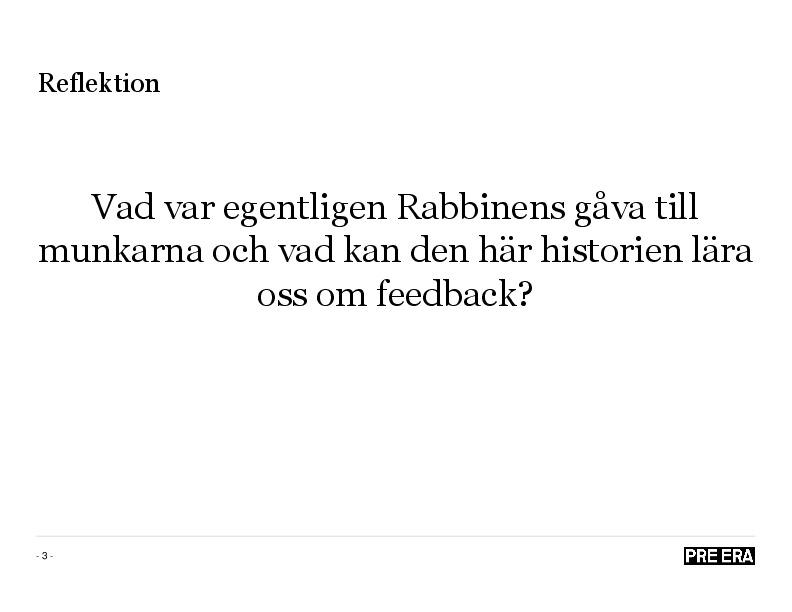subtitle: (28, 160, 772, 352), (673, 537, 775, 580)
title: (32, 65, 167, 102)
